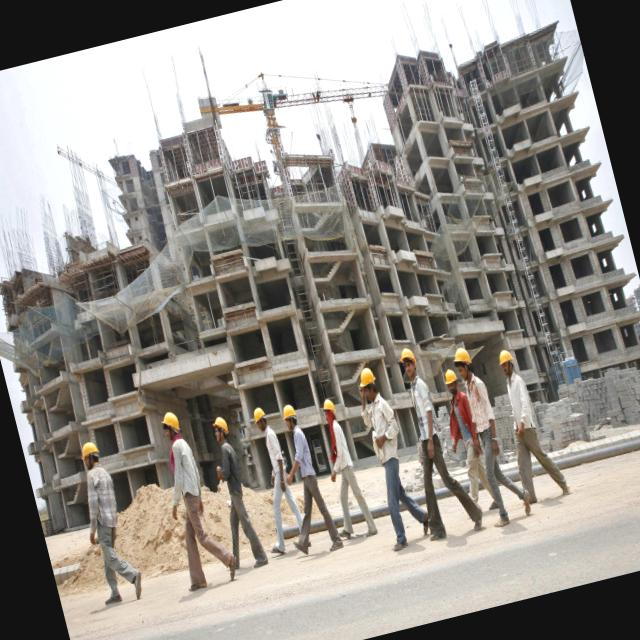helmet: (158, 406, 182, 431), (358, 368, 378, 388), (438, 365, 458, 385), (78, 440, 98, 459), (398, 344, 418, 362), (452, 344, 470, 364), (321, 390, 337, 412), (252, 402, 266, 424), (213, 414, 229, 432), (498, 346, 514, 362), (282, 401, 297, 418)
no-goggles: (400, 357, 414, 370)
no-vest: (164, 438, 203, 508), (83, 468, 121, 532), (502, 374, 536, 436), (366, 397, 398, 457), (406, 384, 439, 439), (462, 381, 492, 428), (328, 422, 352, 477), (293, 426, 317, 478), (219, 446, 243, 489), (263, 426, 284, 473), (451, 402, 472, 444)
